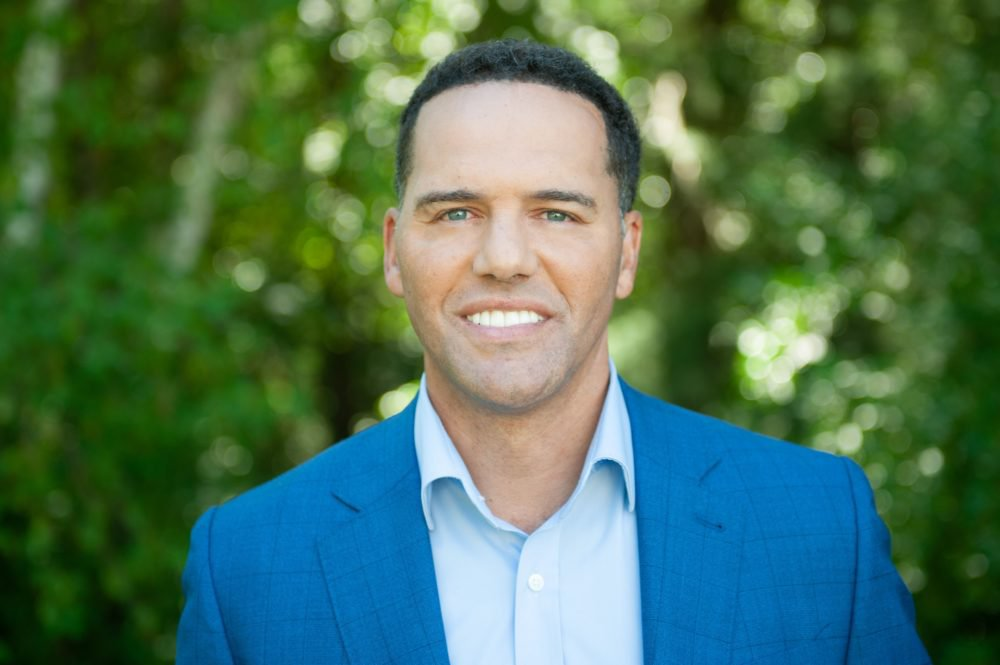noMask: (361, 28, 705, 426)
